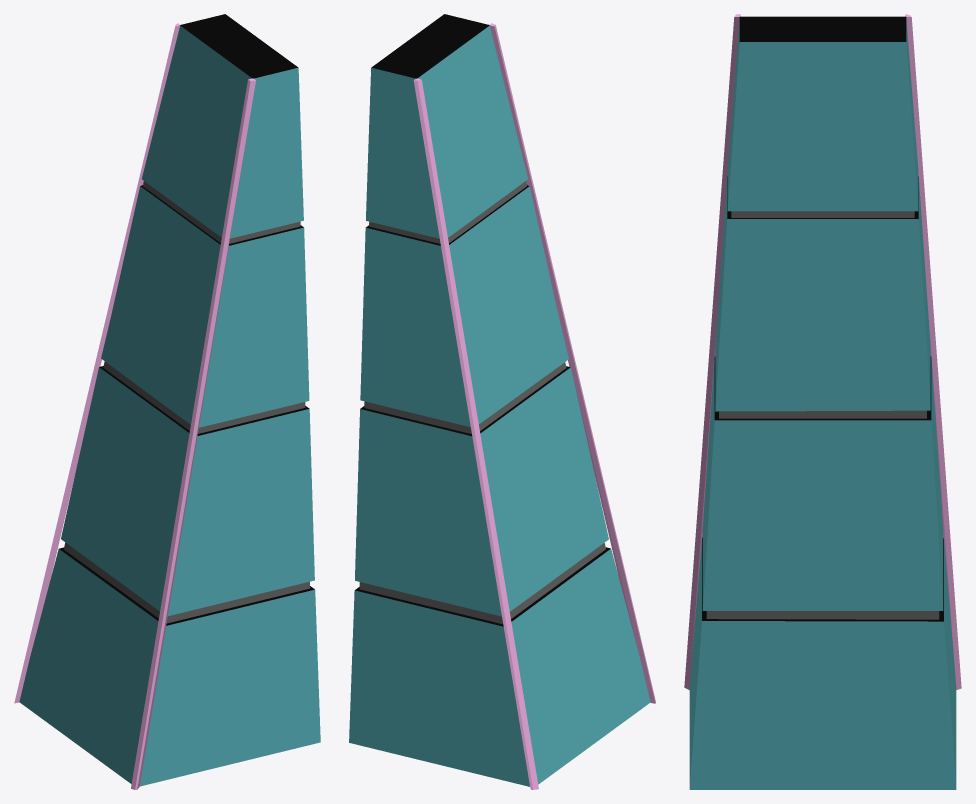
Rendered from SM_Environment_Buildings_Mid_06.fbx.
3 renders of one model, left to right at view 1: azimuth 30°, elevation 25°; view 2: azimuth 150°, elevation 25°; view 3: azimuth 270°, elevation 25°, orthographic. The views are drawn at different scales.
Visible parts, largest first — view 1: SM_Environment_Buildings_Mid_06, Lights; view 2: SM_Environment_Buildings_Mid_06, Lights; view 3: SM_Environment_Buildings_Mid_06, Lights.
Part boxes in pixels (x1=…): SM_Environment_Buildings_Mid_06: x1=19, y1=14, x2=320, y2=786; Lights: x1=14, y1=23, x2=255, y2=789; SM_Environment_Buildings_Mid_06: x1=349, y1=14, x2=650, y2=786; Lights: x1=413, y1=23, x2=655, y2=789; SM_Environment_Buildings_Mid_06: x1=689, y1=16, x2=956, y2=789; Lights: x1=684, y1=14, x2=961, y2=689.
Size of the model in its own units: 12.87 by 42.77 by 14.36.
